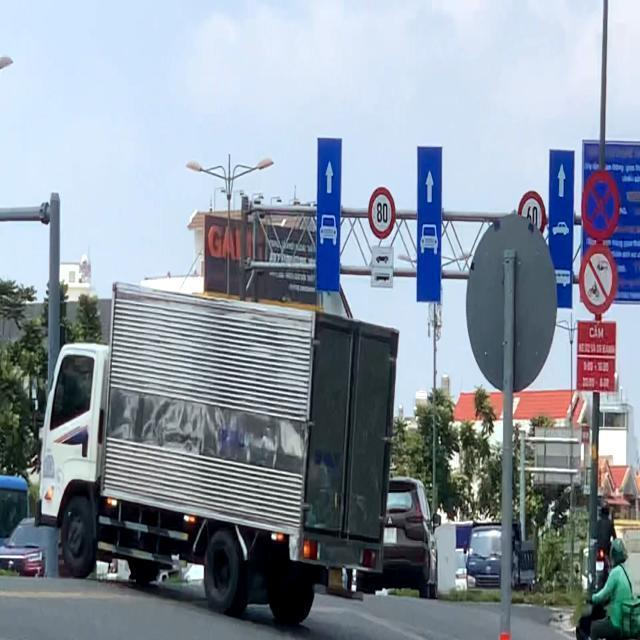127-toc-do-toi-da-60: (516, 190, 546, 234)
127-toc-do-toi-da-80: (366, 186, 398, 236)
130-cam-dung-va-do-xe: (580, 170, 624, 238)
